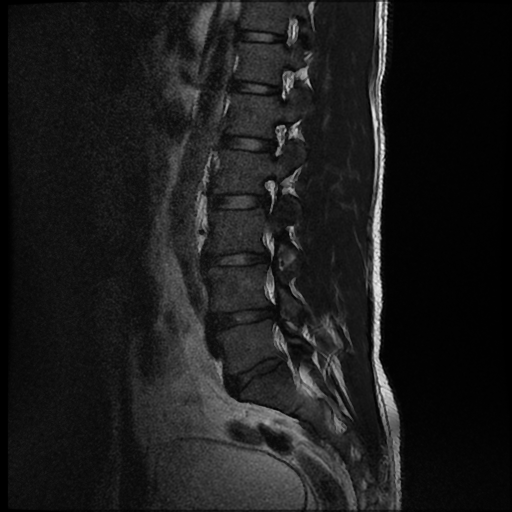LFS0: (255, 110, 296, 167), (249, 173, 290, 218)
